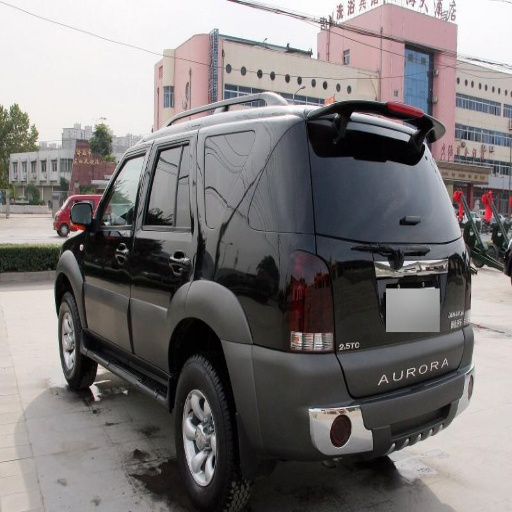_background_: (286, 355, 471, 450), (246, 394, 272, 454)
back_bumper: (313, 121, 444, 234)
back_glass: (132, 135, 201, 356)
back_left_door: (286, 258, 307, 352)
front_glass: (84, 146, 156, 348)
tailgate: (315, 213, 462, 396), (257, 380, 294, 454)
trunk: (173, 354, 249, 511), (57, 290, 92, 388)
